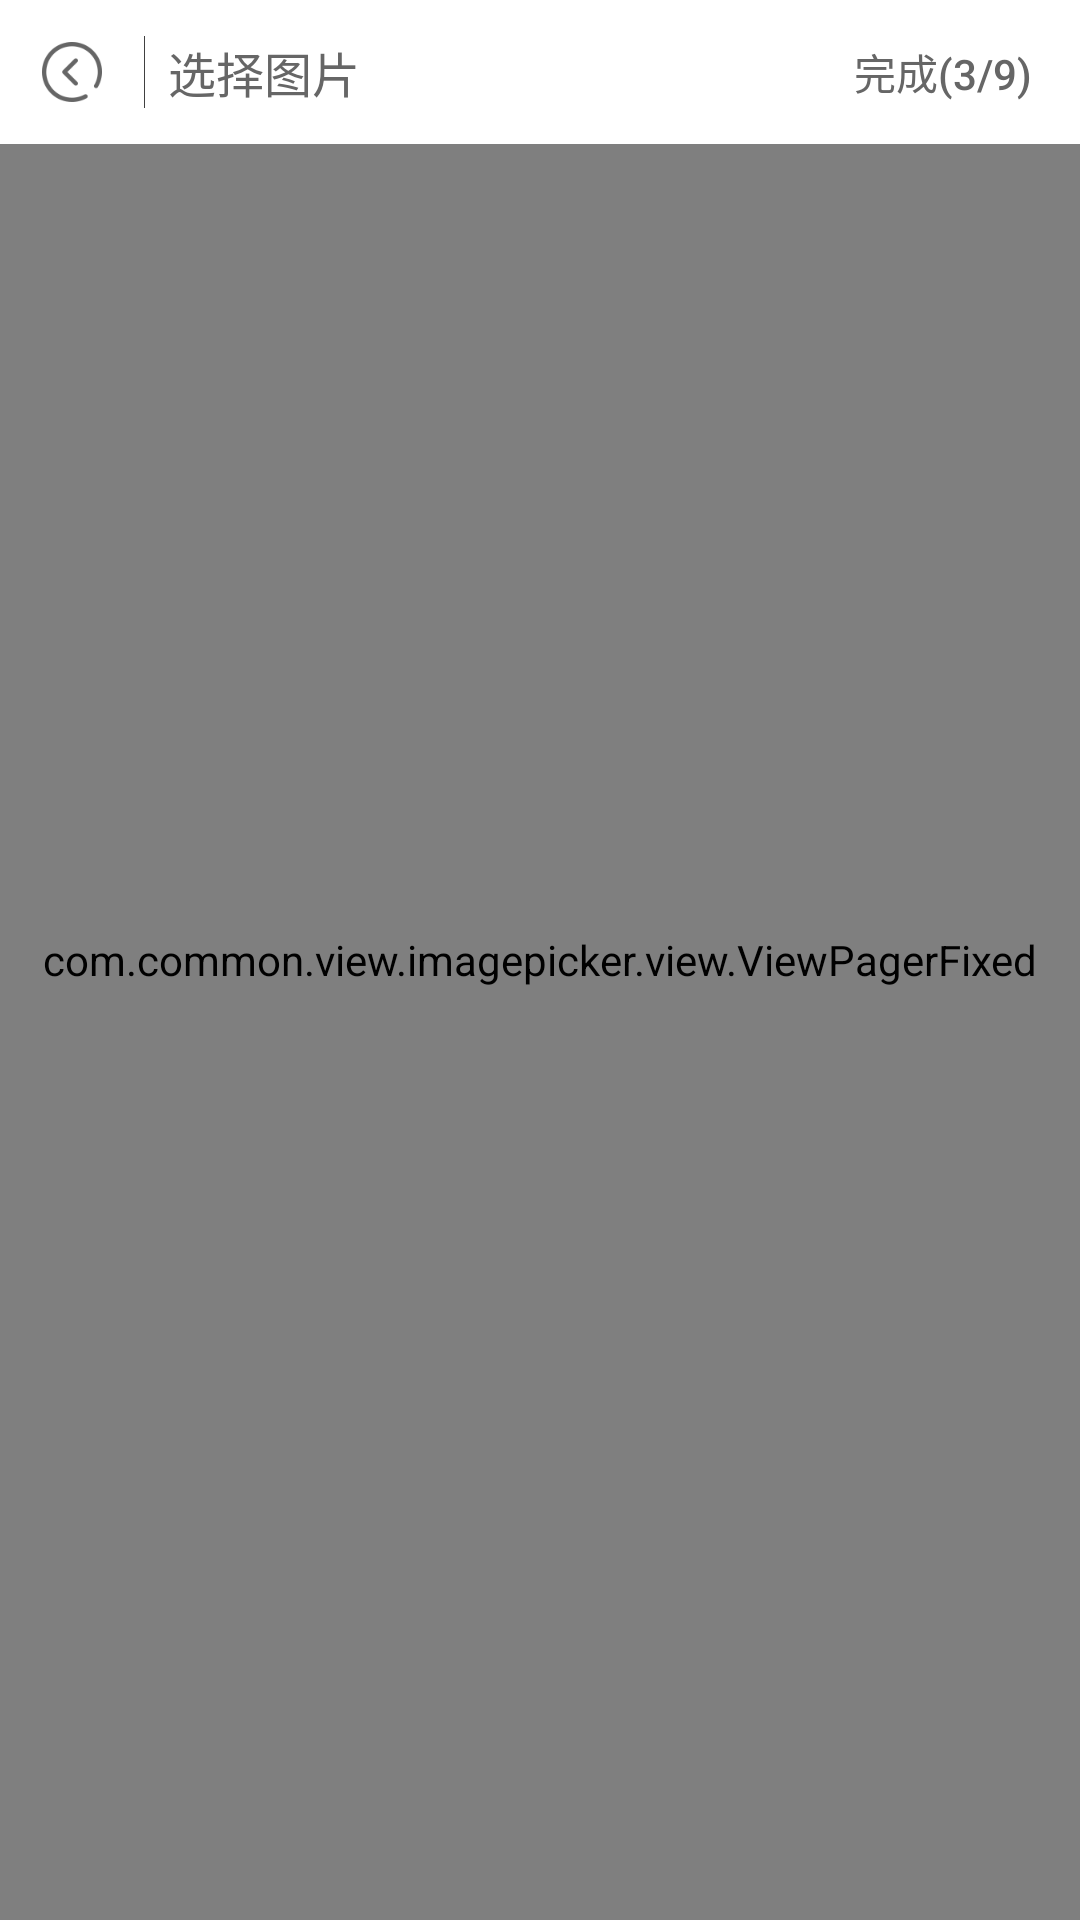

Named icons in this screenshot (1080 x 1920) and their bounding boxes, Rect(x1, y1, x2, y2):
back arrow: Rect(42, 42, 102, 102)
